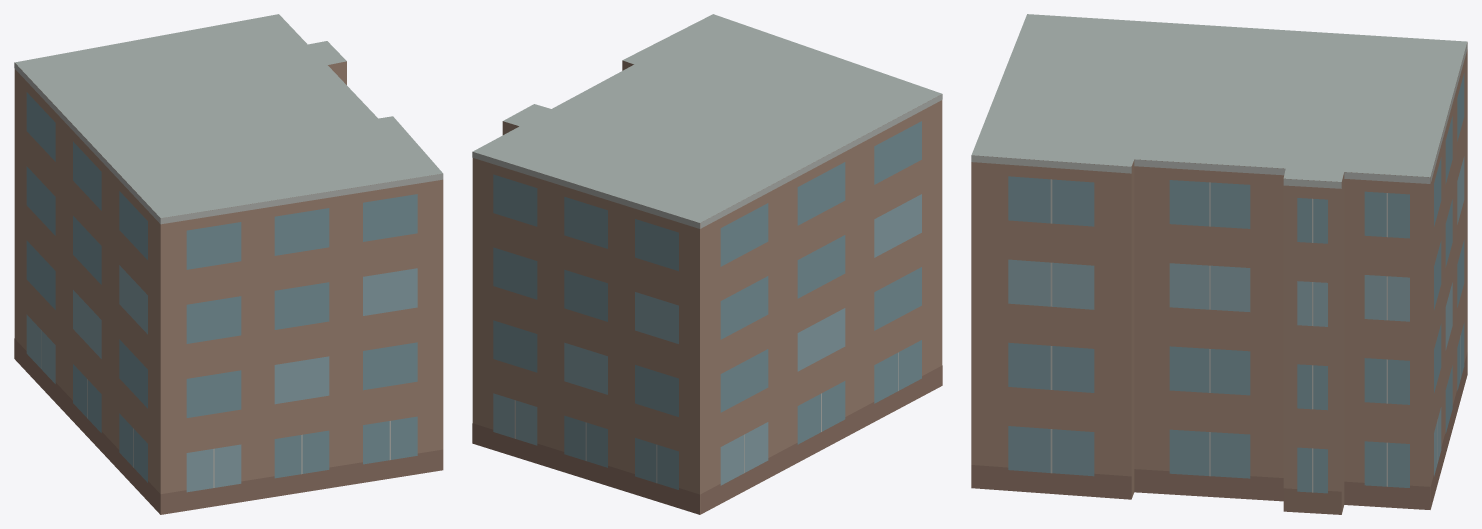
Rendered from survey-upis-32674719.glb.
3 views of the same model, side by side, from view 1: azimuth 30°, elevation 25°; view 2: azimuth 150°, elevation 25°; view 3: azimuth 270°, elevation 25° (orthographic). The views are drawn at different scales.
Visible parts, largest first — view 1: survey-upis-32674719.tmp; view 2: survey-upis-32674719.tmp; view 3: survey-upis-32674719.tmp.
Boxes of the visible parts, left/top/right/bottom form: survey-upis-32674719.tmp: left=14, top=14, right=443, bottom=514; survey-upis-32674719.tmp: left=472, top=14, right=942, bottom=514; survey-upis-32674719.tmp: left=971, top=14, right=1467, bottom=514.
Bounding box in the file's own units: 12.86 × 11.87 × 16.05.
